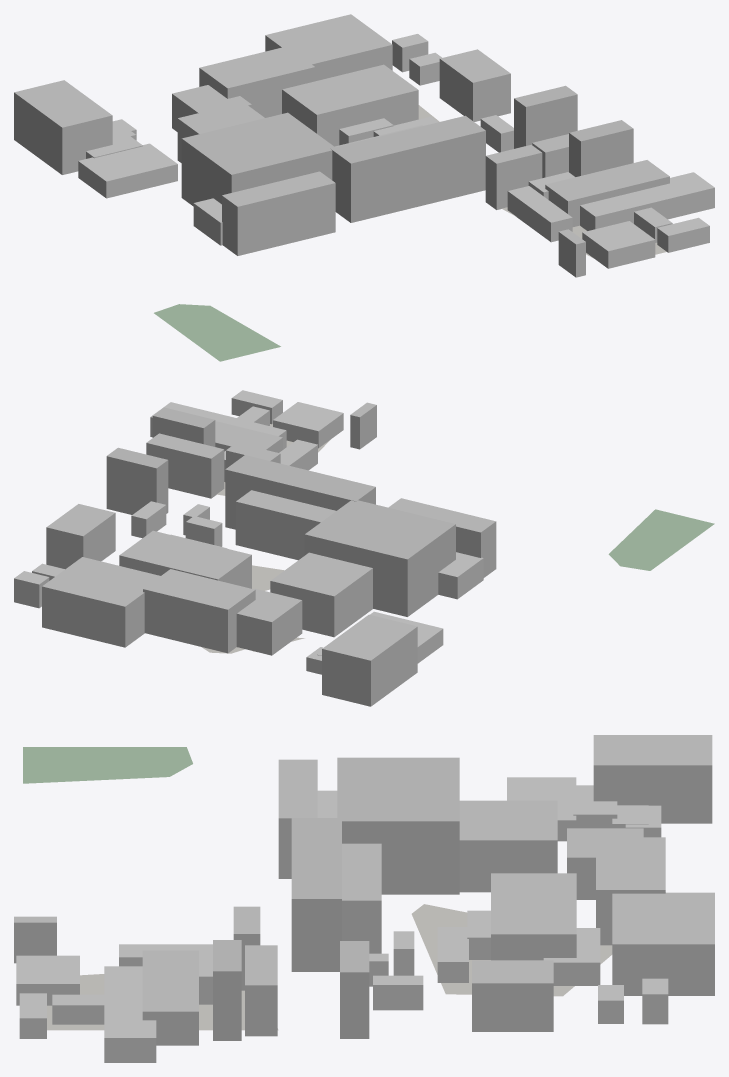
Rendered from 124_113_mid.glb.
The picture shows the model from 3 angles, top to bottom: view 1: azimuth 30°, elevation 25°; view 2: azimuth 150°, elevation 25°; view 3: azimuth 270°, elevation 25°; orthographic projection. The views are drawn at different scales.
Size of the model in its own units: 557 by 61.55 by 521.
